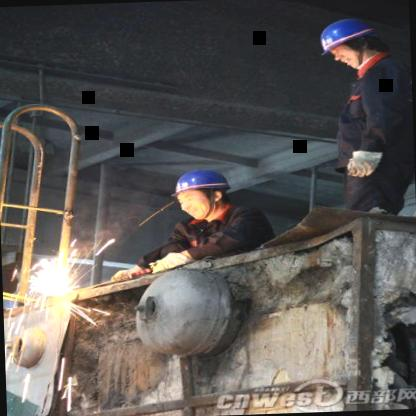helmet: (162, 163, 238, 222), (314, 15, 384, 72)
